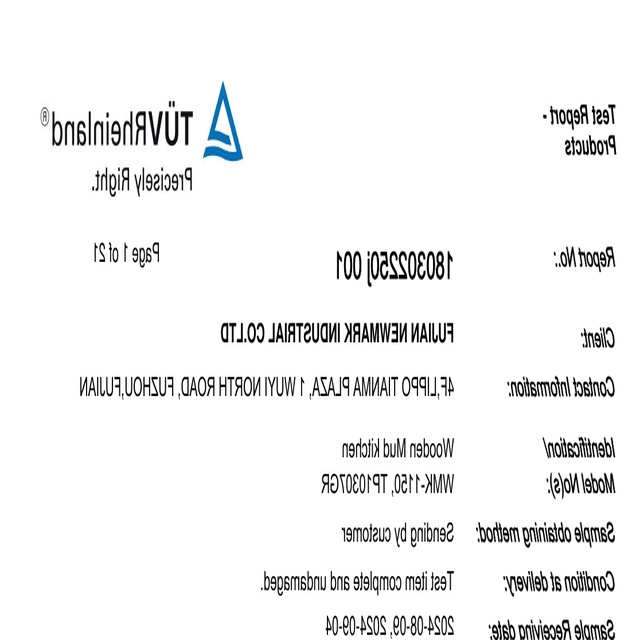tuv_rheinland: (36, 78, 245, 163)
